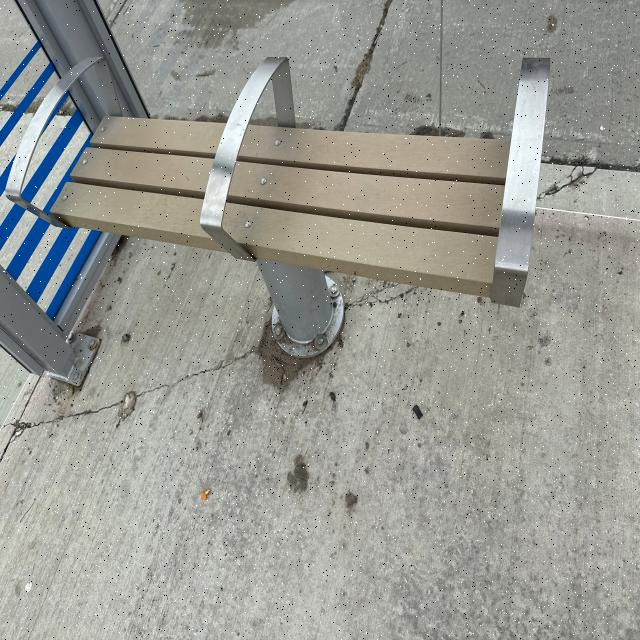Bench: (18, 24, 559, 362)
